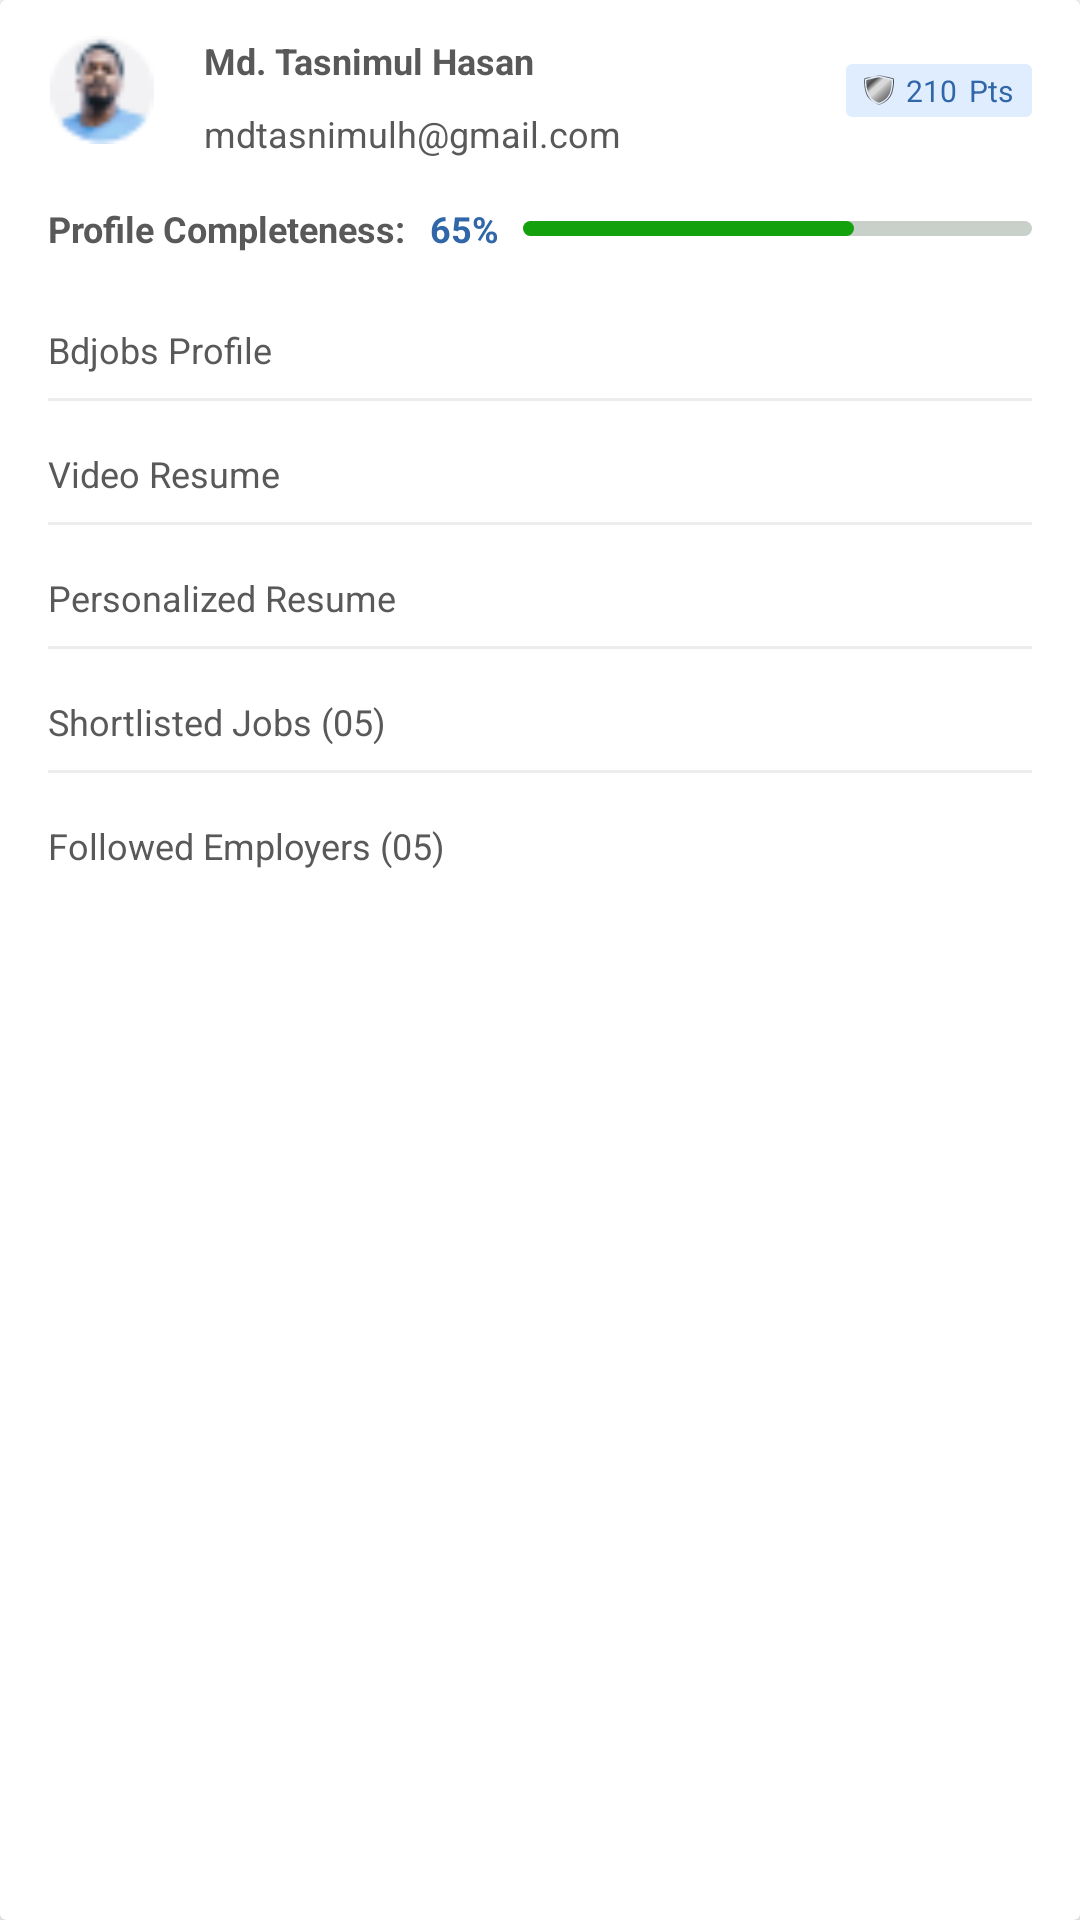

Icons on this 1080px×1920px Android screen, each with its box as (x1, y1, x2, y2):
mypoints shield: (864, 75, 894, 105)
